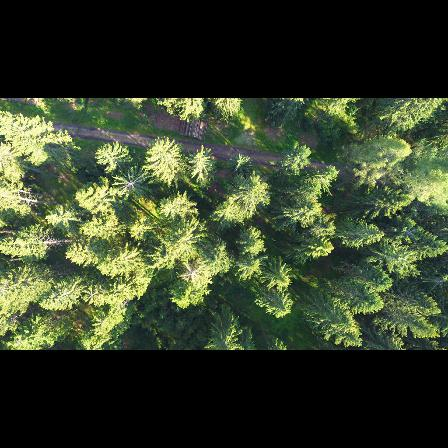Sick: (111, 166, 150, 199), (400, 221, 420, 243)
